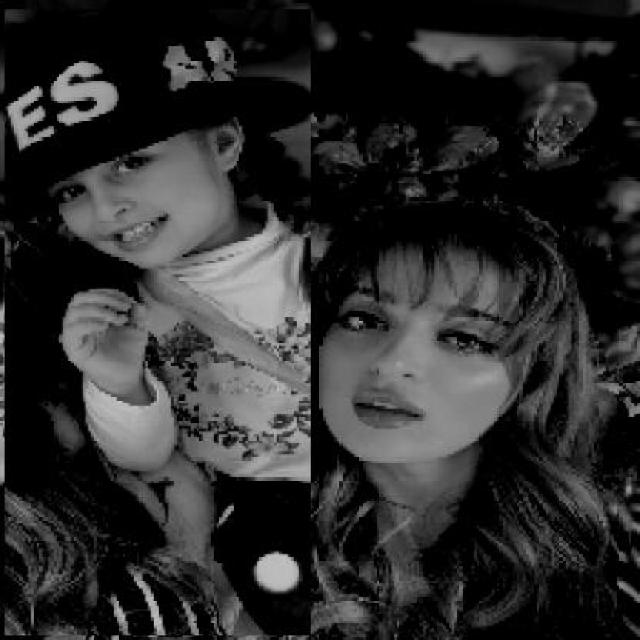child: (3, 9, 311, 637)
